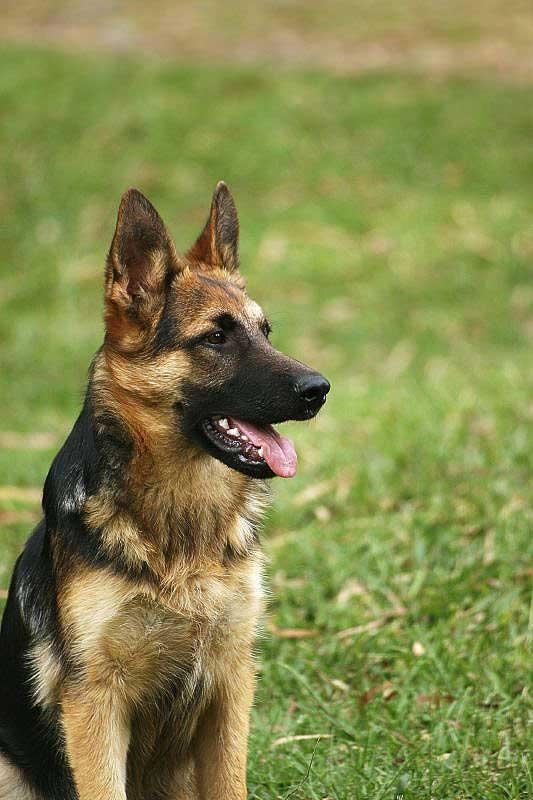German_shepherd: (0, 174, 336, 798)
